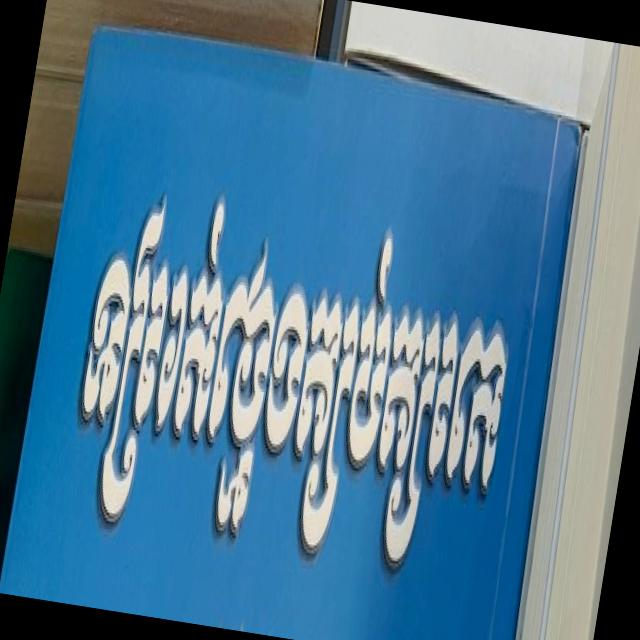Yolov11_80vkh: (61, 143, 526, 558)
